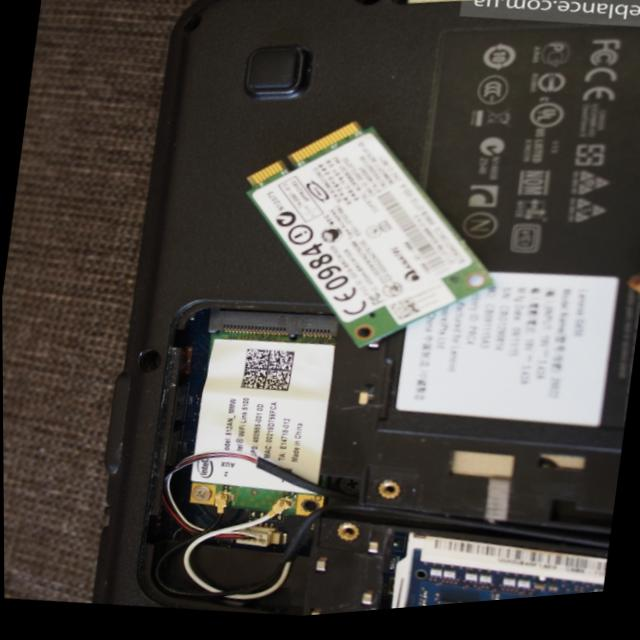datamatrix: (240, 349, 295, 400)
